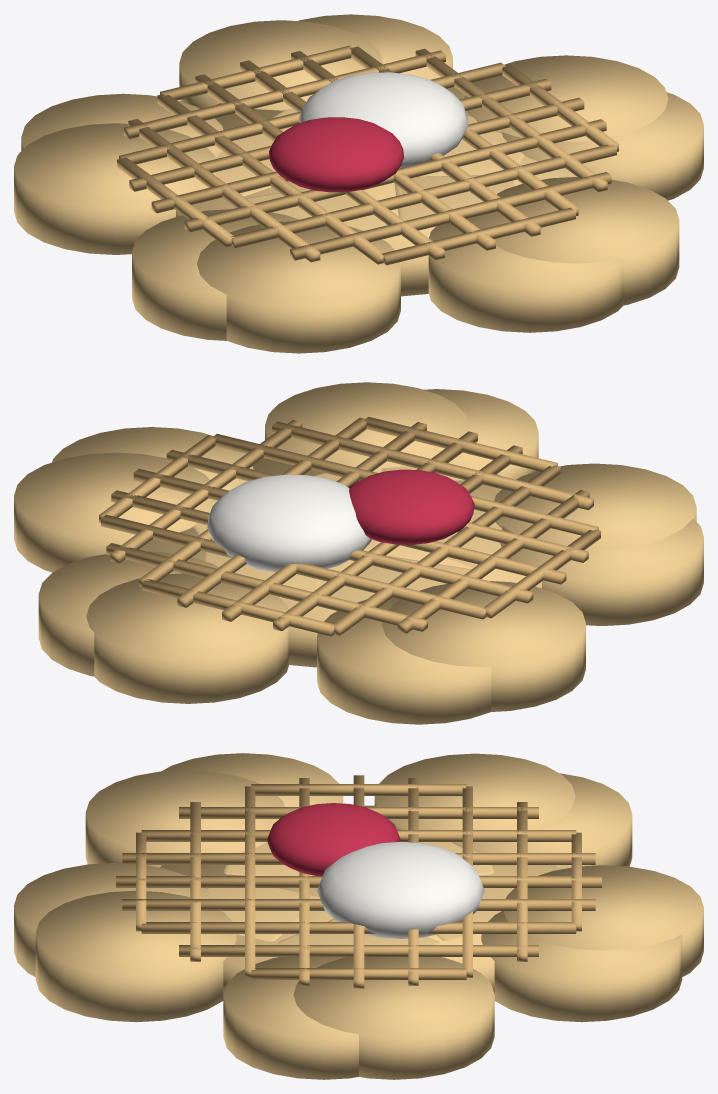
File: SM_Waffle.glb
The picture shows the model from 3 angles, top to bottom: view 1: azimuth 30°, elevation 25°; view 2: azimuth 150°, elevation 25°; view 3: azimuth 270°, elevation 25°; orthographic projection.
Parts seen in each view (by area): view 1: SM_Waffle; view 2: SM_Waffle; view 3: SM_Waffle.
Boxes of the visible parts, x1,y1,x2,y2 form: SM_Waffle: (14,14,703,353); SM_Waffle: (14,382,703,724); SM_Waffle: (14,753,703,1079).
Bounding box in the file's own units: 0.159 × 0.0254 × 0.1647.
